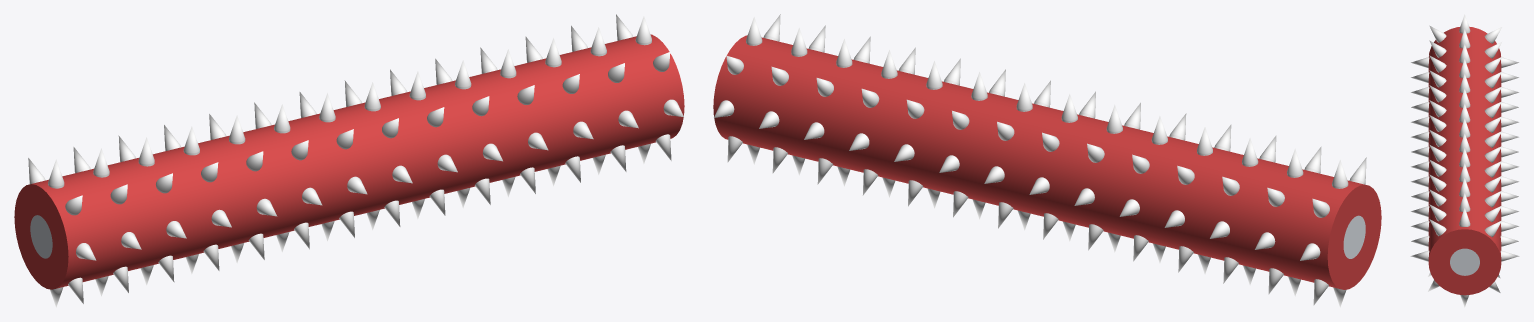
Rendered from SpikeRoll.fbx.
3 views of the same model, side by side, from view 1: azimuth 30°, elevation 25°; view 2: azimuth 150°, elevation 25°; view 3: azimuth 270°, elevation 25° (orthographic). The views are drawn at different scales.
Visible parts, largest first — view 1: Cylinder.005; view 2: Cylinder.005; view 3: Cylinder.005.
Boxes of the visible parts, bbox=[...] form: Cylinder.005: bbox=[14, 14, 684, 307]; Cylinder.005: bbox=[713, 14, 1381, 307]; Cylinder.005: bbox=[1410, 14, 1519, 307].
Bounding box in the file's own units: 246 × 56.96 × 56.05.
2 materials, 2 textured.
